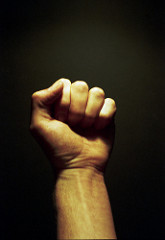fist: (28, 78, 124, 176)
